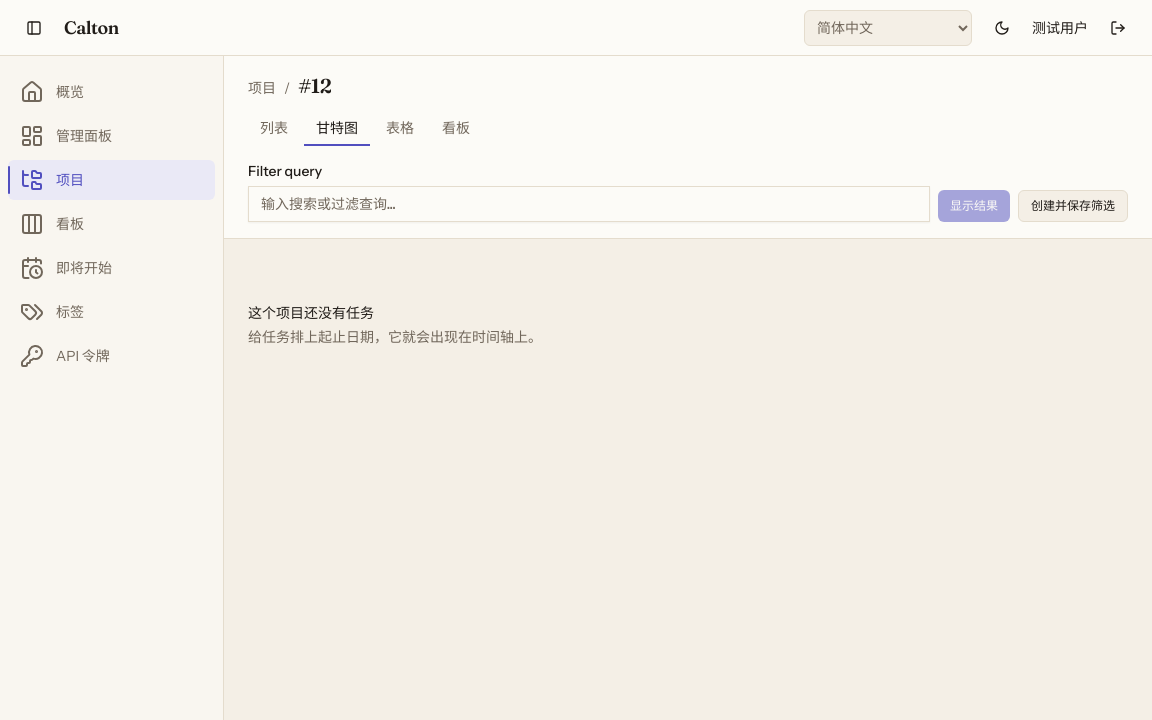
Test case: ★ Gantt 视图 › 容器本身照常渲染，仍可切回其他视图
Expected: the element with test id "view-container" is shown, [224,56,1151,346]
What coordinates should you click on to do the following:
click the link "列表"
I would click on:
 (274, 128)
Its box is [260,119,288,137].
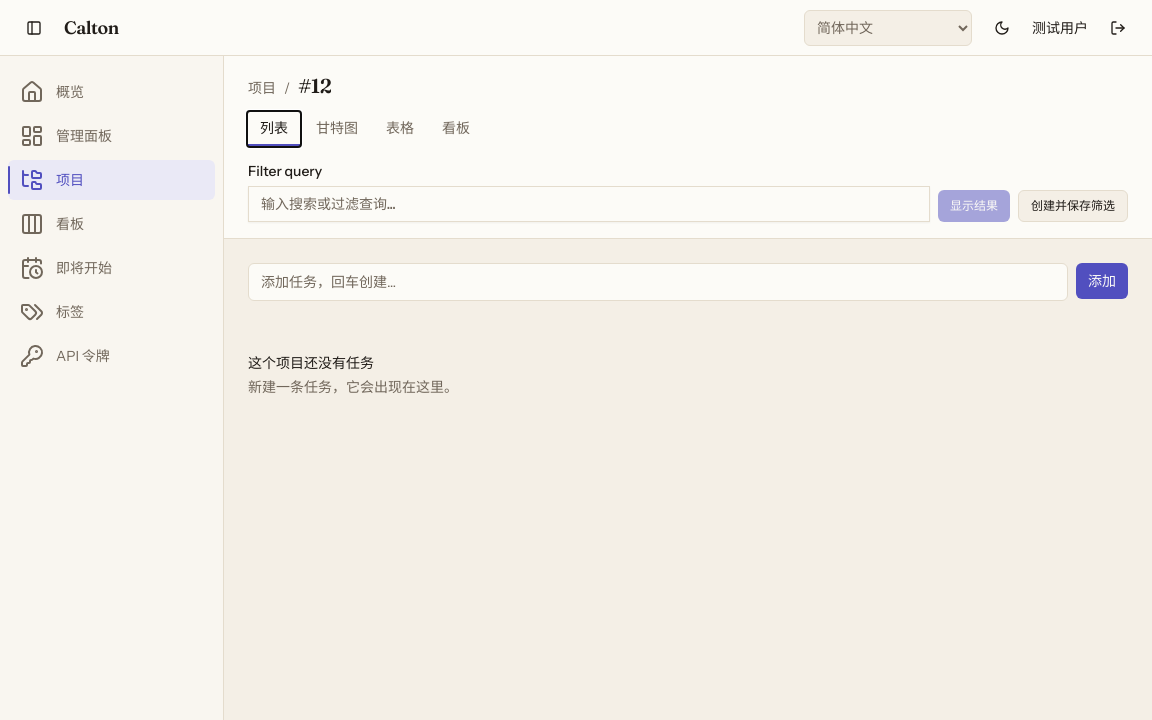
Expected: the element with test id "list-view" is shown, [248,263,1128,396]
